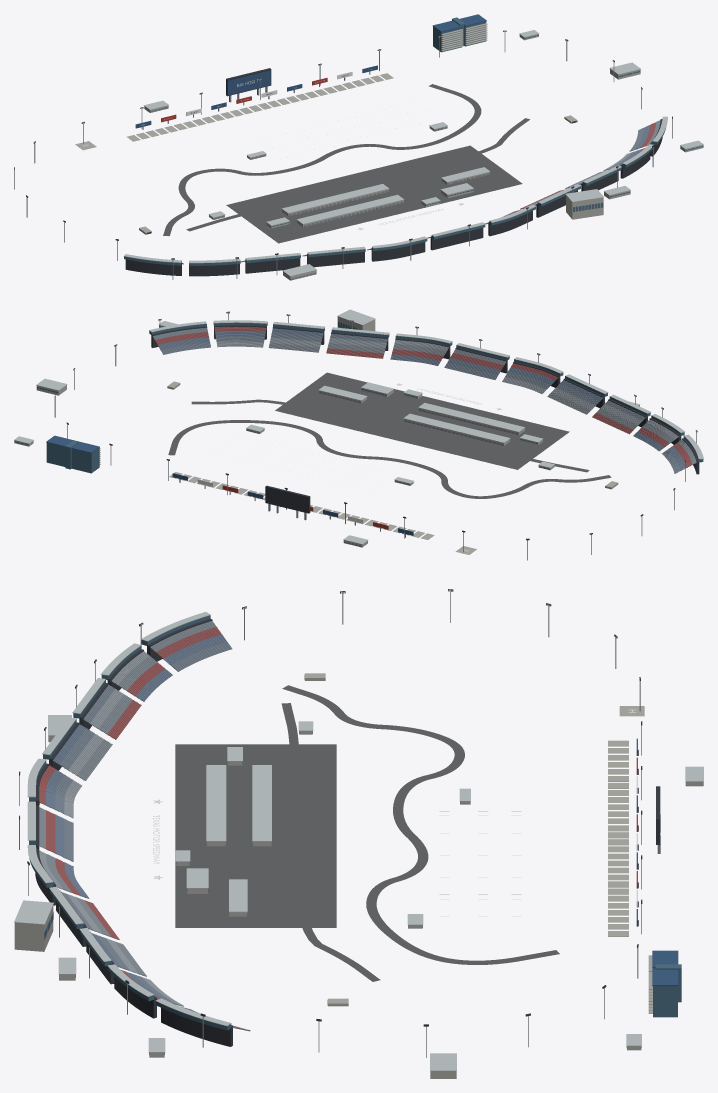
File: TexasMotorSpeedway.fbx
3 views of the same model, one above another, from view 1: azimuth 30°, elevation 25°; view 2: azimuth 150°, elevation 25°; view 3: azimuth 270°, elevation 25° (orthographic). The views are drawn at different scales.
Parts seen in each view (by area): view 1: Garage and paddock pavement, Infield road-course pavement, Burnout Alley concrete pads, Lone Star Tower balconies, Secondary garage roof, Cup garage roof, Big Hoss screen, Grandstand facade and suite level, Grandstand facade and suite level.009, The Speedway Club, Grandstand facade and suite level.012, Grandstand facade and suite level.006 (+5 smaller); view 2: Garage and paddock pavement, Infield road-course pavement, Burnout Alley concrete pads, Big Hoss display enclosure, Secondary garage roof, Cup garage roof, Lone Star Tower wings, Infield service spine, Lone Star Tower wings.001; view 3: Garage and paddock pavement, Infield road-course pavement, Burnout Alley concrete pads, Cup garage roof, Secondary garage roof, Grandstand facade and suite level.030, The Speedway Club, Infield service spine, Lone Star Tower wings.001.
Part boxes in pixels (x1,y1,x2,y2): Garage and paddock pavement: [226, 145, 522, 243]; Infield road-course pavement: [163, 84, 481, 236]; Burnout Alley concrete pads: [127, 73, 393, 141]; Lone Star Tower balconies: [441, 23, 487, 51]; Secondary garage roof: [281, 184, 389, 213]; Cup garage roof: [296, 194, 403, 224]; Big Hoss screen: [228, 70, 270, 95]; Grandstand facade and suite level: [125, 259, 181, 275]; Grandstand facade and suite level.009: [307, 252, 364, 267]; The Speedway Club: [566, 195, 603, 219]; Grandstand facade and suite level.012: [371, 242, 425, 261]; Grandstand facade and suite level.006: [245, 258, 300, 273]; Garage and paddock pavement: [275, 372, 569, 469]; Infield road-course pavement: [168, 420, 611, 498]; Burnout Alley concrete pads: [169, 472, 434, 539]; Big Hoss display enclosure: [265, 485, 310, 513]; Secondary garage roof: [403, 413, 510, 442]; Cup garage roof: [418, 402, 524, 431]; Lone Star Tower wings: [71, 448, 99, 473]; Infield service spine: [191, 399, 589, 472]; Lone Star Tower wings.001: [46, 442, 65, 466]; Garage and paddock pavement: [175, 744, 336, 927]; Infield road-course pavement: [282, 685, 559, 964]; Burnout Alley concrete pads: [608, 740, 628, 936]; Cup garage roof: [206, 765, 226, 841]; Secondary garage roof: [252, 765, 271, 841]; Grandstand facade and suite level.030: [161, 1008, 232, 1046]; The Speedway Club: [14, 905, 53, 951]; Infield service spine: [281, 703, 380, 981]; Lone Star Tower wings.001: [653, 986, 677, 1017].
Size of the model in its own units: 103735 by 3904 by 66223.
